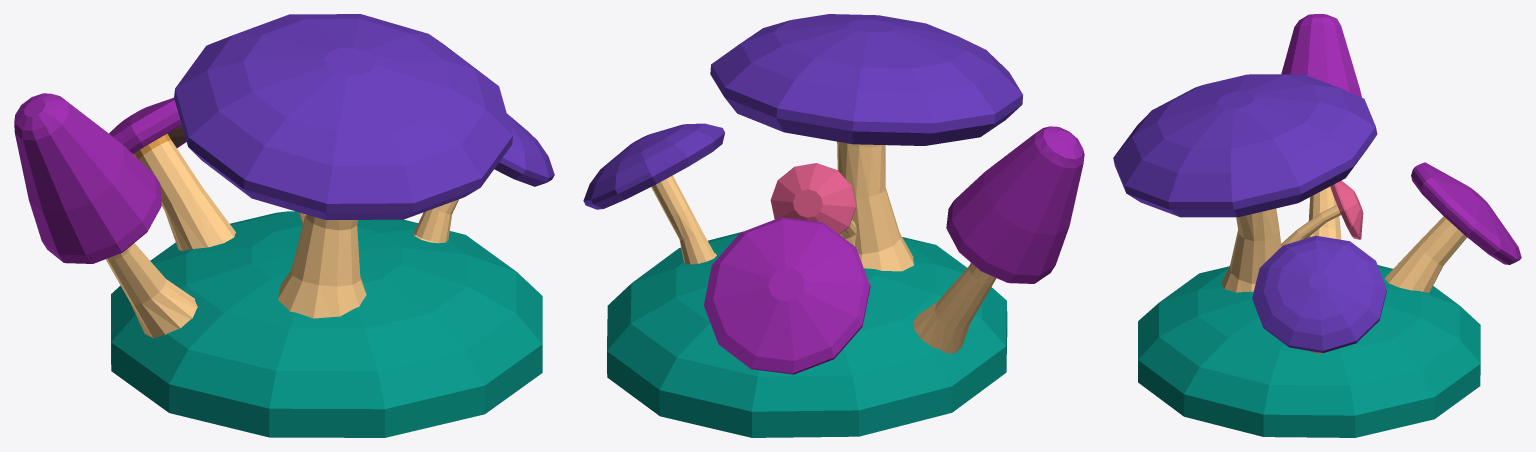
File: Shroooms.glb
3 views of the same model, side by side, from view 1: azimuth 30°, elevation 25°; view 2: azimuth 150°, elevation 25°; view 3: azimuth 270°, elevation 25° (orthographic). The views are drawn at different scales.
Visible parts, largest first — view 1: group1416577628, group74216865, group1229208932, group184790810, group1876320129; view 2: group1416577628, group74216865, group184790810, group1229208932, group1876320129; view 3: group1416577628, group74216865, group1876320129, group184790810, group1229208932.
Boxes of the visible parts, <box> form: group1416577628: <box>111,211,542,437</box>; group74216865: <box>174,14,512,318</box>; group1229208932: <box>14,93,197,338</box>; group184790810: <box>109,97,235,250</box>; group1876320129: <box>414,114,554,243</box>; group1416577628: <box>607,231,1007,437</box>; group74216865: <box>710,14,1022,271</box>; group184790810: <box>704,217,870,374</box>; group1229208932: <box>913,126,1084,353</box>; group1876320129: <box>583,123,724,264</box>; group1416577628: <box>1138,265,1480,437</box>; group74216865: <box>1113,74,1377,292</box>; group1876320129: <box>1252,235,1386,353</box>; group184790810: <box>1384,162,1521,292</box>; group1229208932: <box>1281,14,1361,239</box>.
Size of the model in its own units: 6.68 by 4.04 by 5.74.
